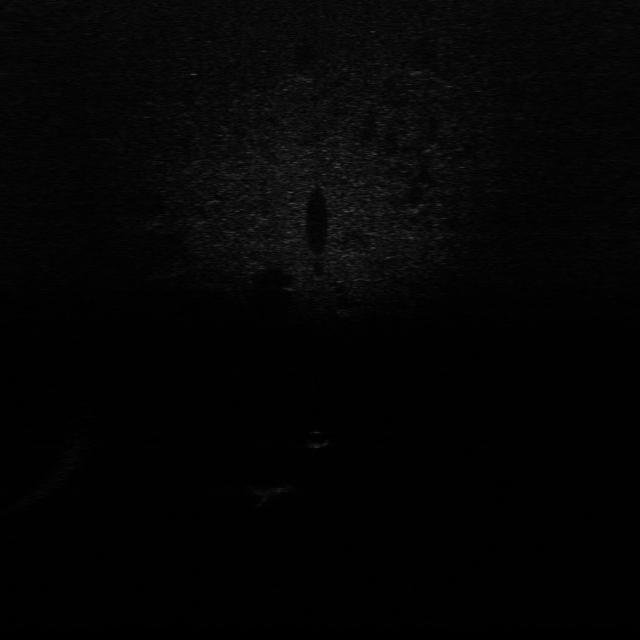ball: (307, 426, 334, 447)
square cage: (244, 482, 294, 501)
